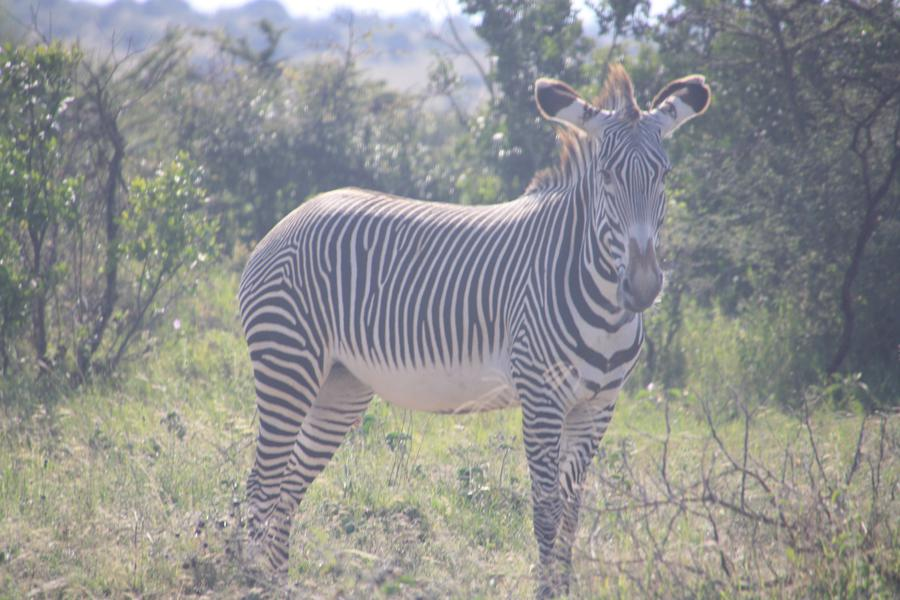zebra_grevys: (230, 174, 582, 400)
